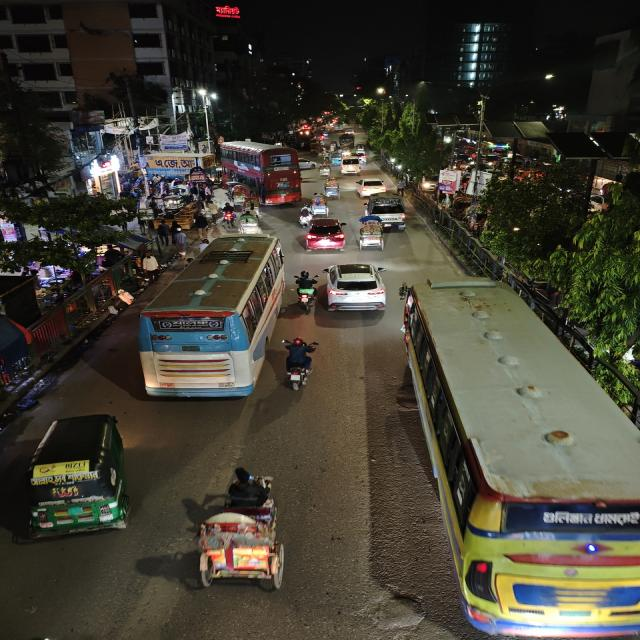bus: (400, 279, 638, 640), (132, 234, 287, 403), (224, 140, 301, 176), (256, 166, 304, 207)
car: (321, 260, 386, 316), (364, 193, 409, 231), (303, 217, 348, 253), (352, 177, 387, 197), (339, 158, 362, 175), (419, 175, 439, 191), (298, 158, 316, 170)
cng: (22, 411, 132, 541)
motorcycle: (279, 336, 320, 393), (292, 270, 318, 314), (218, 202, 238, 228), (296, 205, 313, 227)
pedestrian: (138, 252, 161, 282), (190, 212, 211, 240), (170, 222, 188, 246)
rickshaw: (185, 462, 294, 594), (356, 215, 387, 252), (228, 184, 254, 209), (321, 178, 343, 200)
truck: (147, 151, 206, 175)
